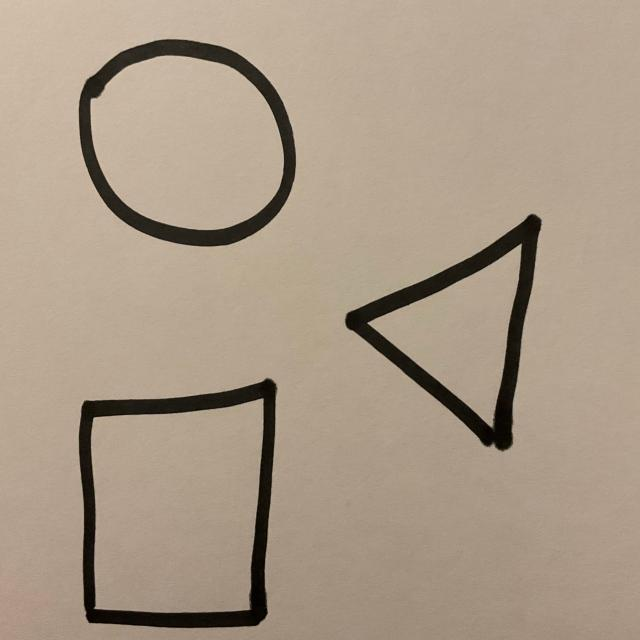Dreieck: (345, 216, 542, 454)
Kreis: (77, 39, 297, 248)
Quadrat: (79, 379, 278, 629)
